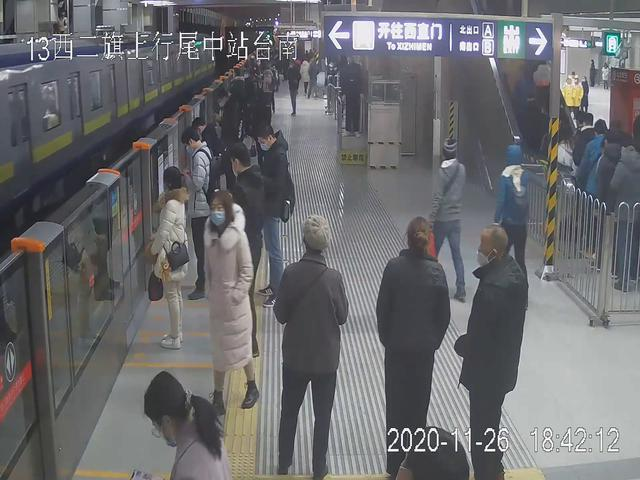person: (379, 214, 451, 480), (461, 222, 527, 480), (268, 213, 331, 480), (202, 187, 266, 413), (254, 124, 301, 311), (226, 140, 265, 355), (427, 135, 470, 303), (149, 163, 188, 348), (177, 125, 214, 301), (492, 138, 532, 297)
